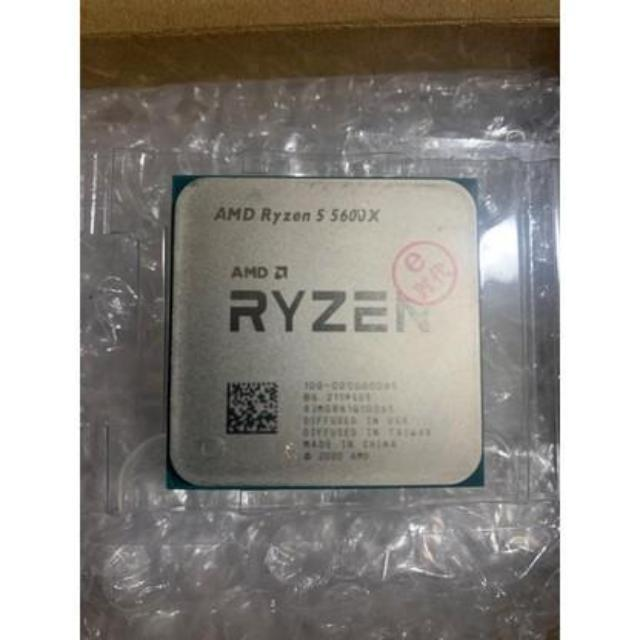CPU: (174, 172, 483, 490)
